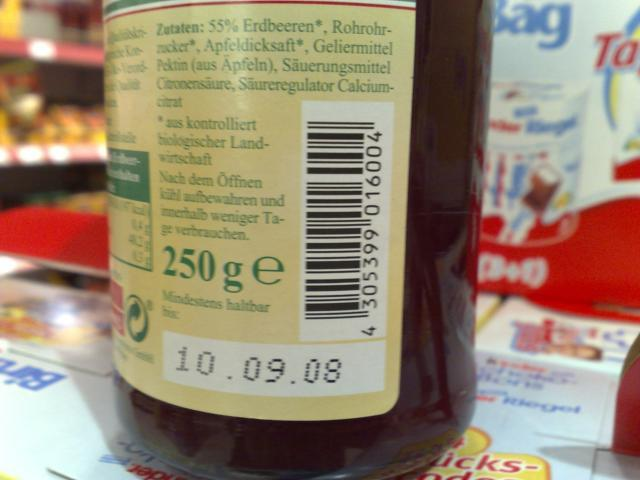Barcode: (302, 100, 392, 338)
